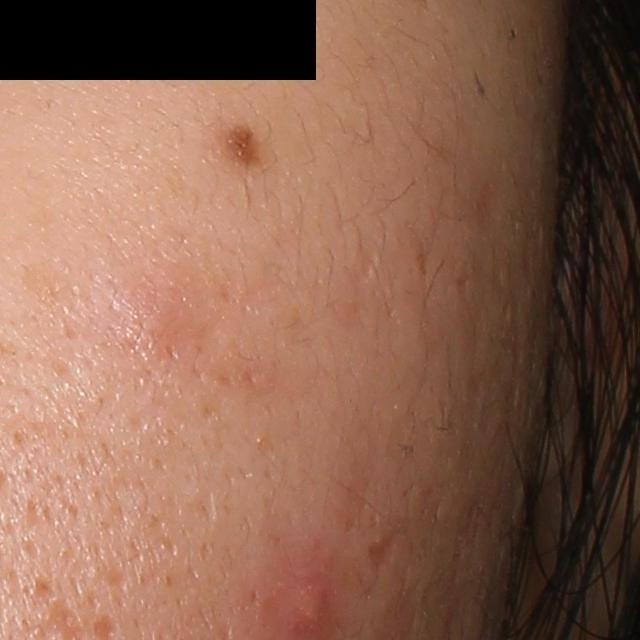atrophic_scar: (366, 525, 401, 585)
nevus: (225, 121, 262, 173)
papule: (285, 577, 339, 637)
